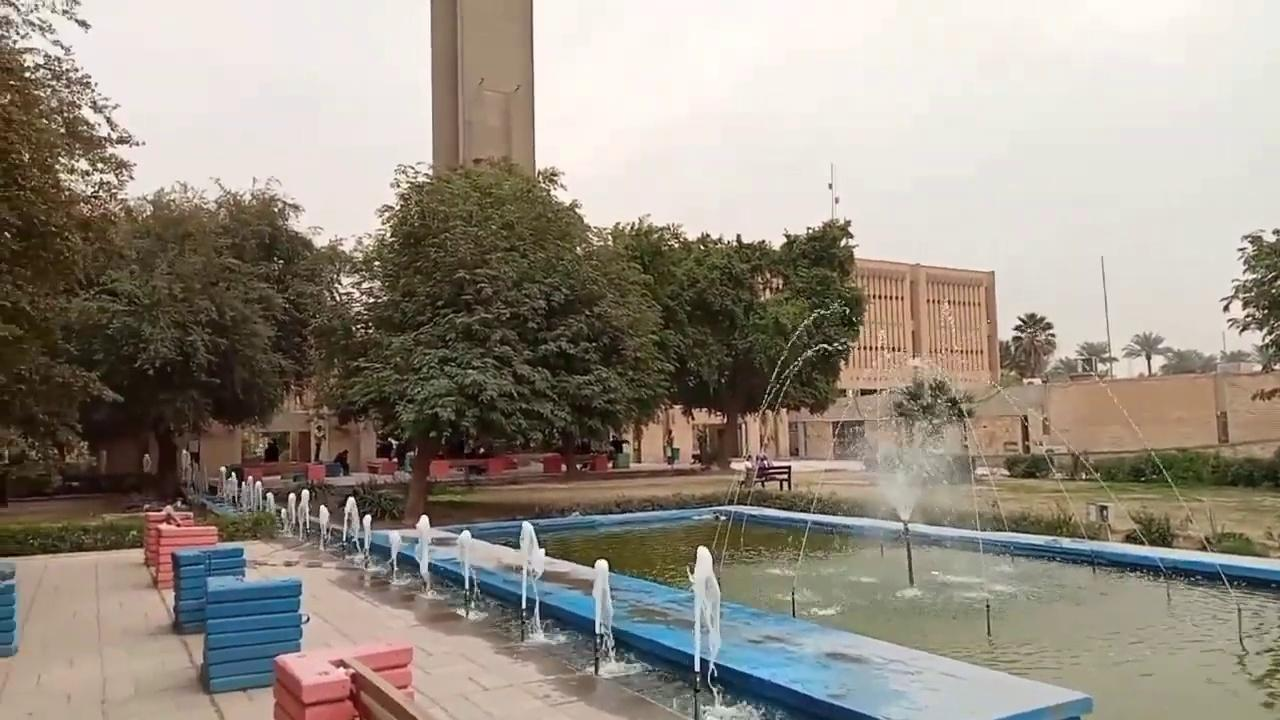fountain: (163, 365, 1276, 717), (684, 543, 722, 681)
person: (754, 444, 771, 486), (313, 424, 325, 462), (334, 448, 349, 476), (664, 428, 675, 465), (263, 438, 279, 462)
tree: (306, 154, 670, 525), (62, 173, 337, 504), (0, 0, 145, 490), (662, 214, 868, 467), (1219, 225, 1279, 401), (888, 371, 979, 482), (1007, 310, 1056, 380), (1120, 329, 1170, 375), (1074, 339, 1117, 376), (1158, 347, 1210, 374)
